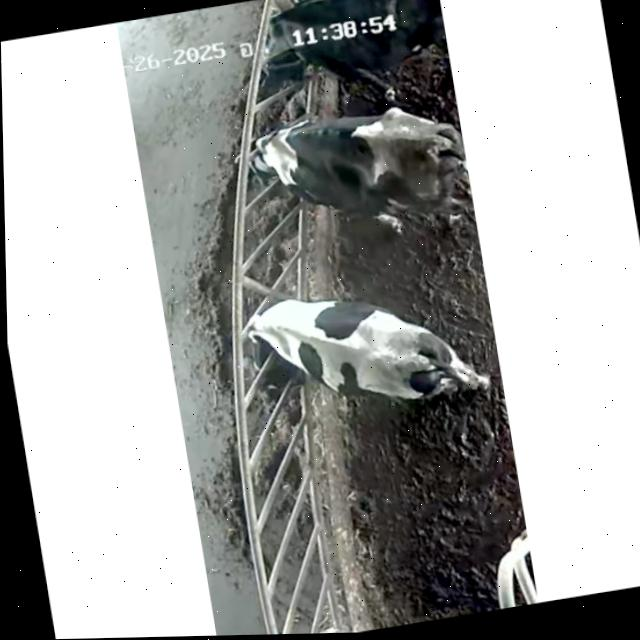eat: (195, 278, 358, 401), (208, 105, 359, 237), (216, 0, 348, 102)
